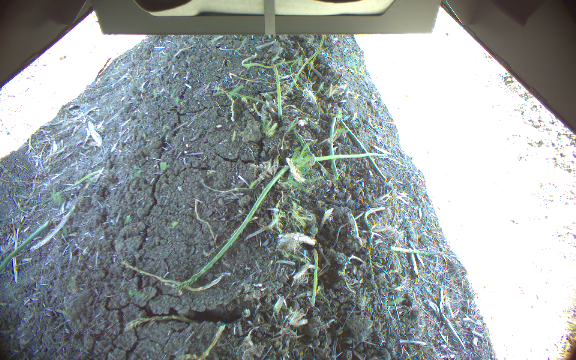aspa: (271, 62, 285, 122), (308, 246, 320, 306)
